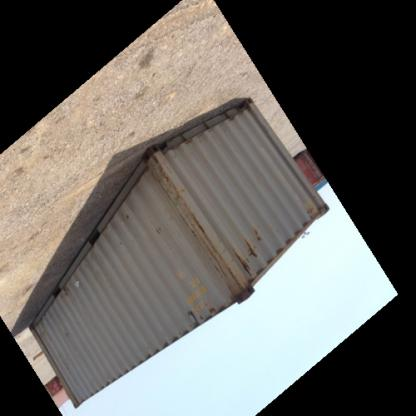Damage: (146, 150, 189, 202), (212, 242, 236, 298), (237, 232, 263, 278), (176, 210, 206, 247), (58, 275, 88, 303), (117, 212, 130, 249), (152, 218, 168, 247), (56, 324, 73, 350), (306, 202, 326, 218)
